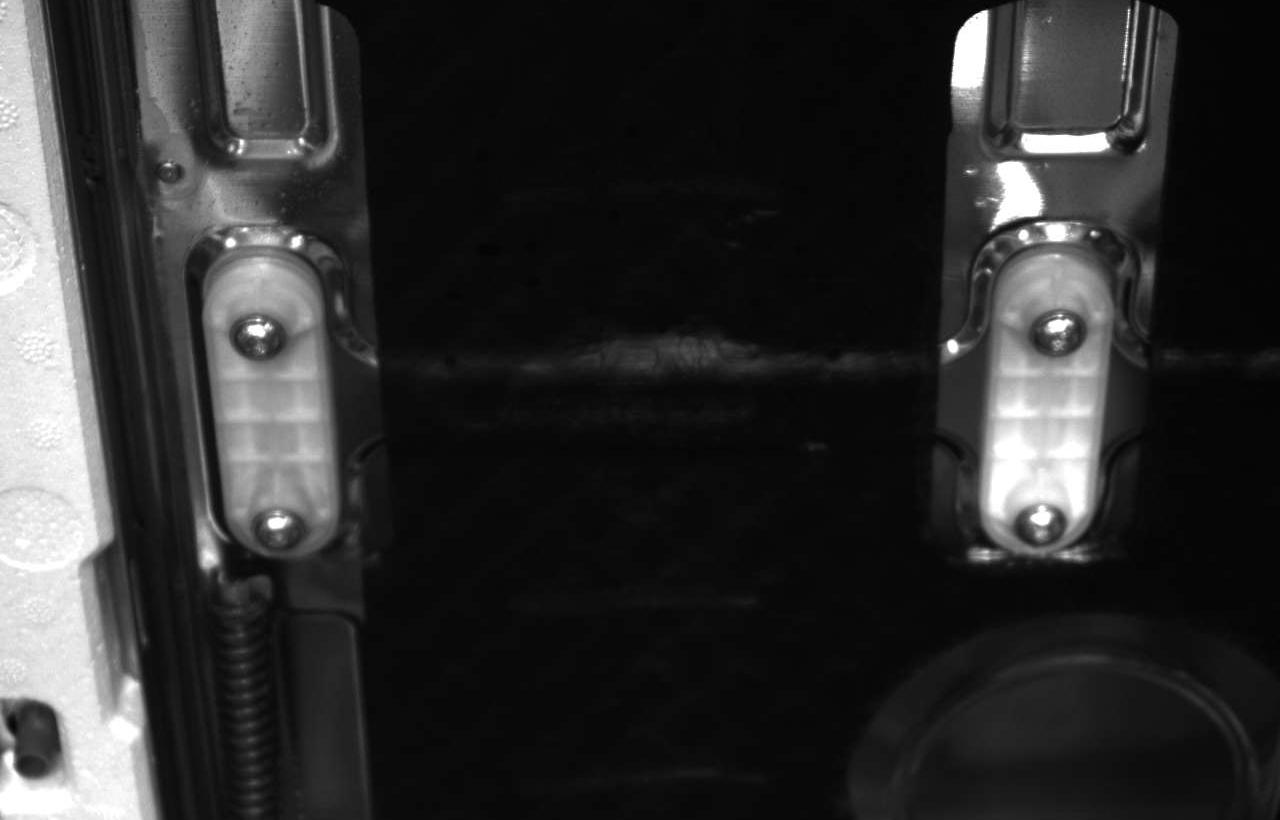vida-ok: (224, 301, 296, 368), (1011, 485, 1077, 554), (1020, 301, 1087, 368), (253, 501, 319, 559)
